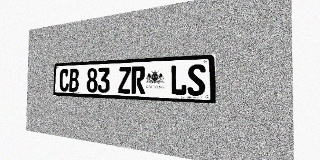3: (98, 67, 110, 93)
8: (87, 68, 98, 93)
B: (69, 69, 79, 92)
C: (59, 69, 69, 92)
L: (170, 65, 187, 96)
R: (131, 66, 145, 94)
S: (187, 64, 205, 96)
Z: (118, 67, 131, 94)
